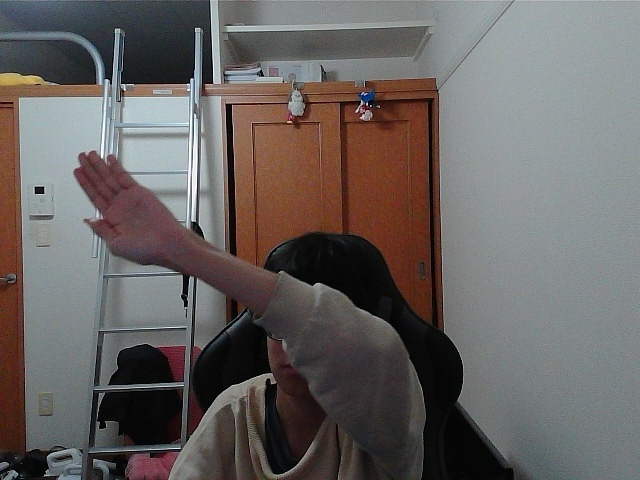open_palm: (79, 155, 166, 254)
